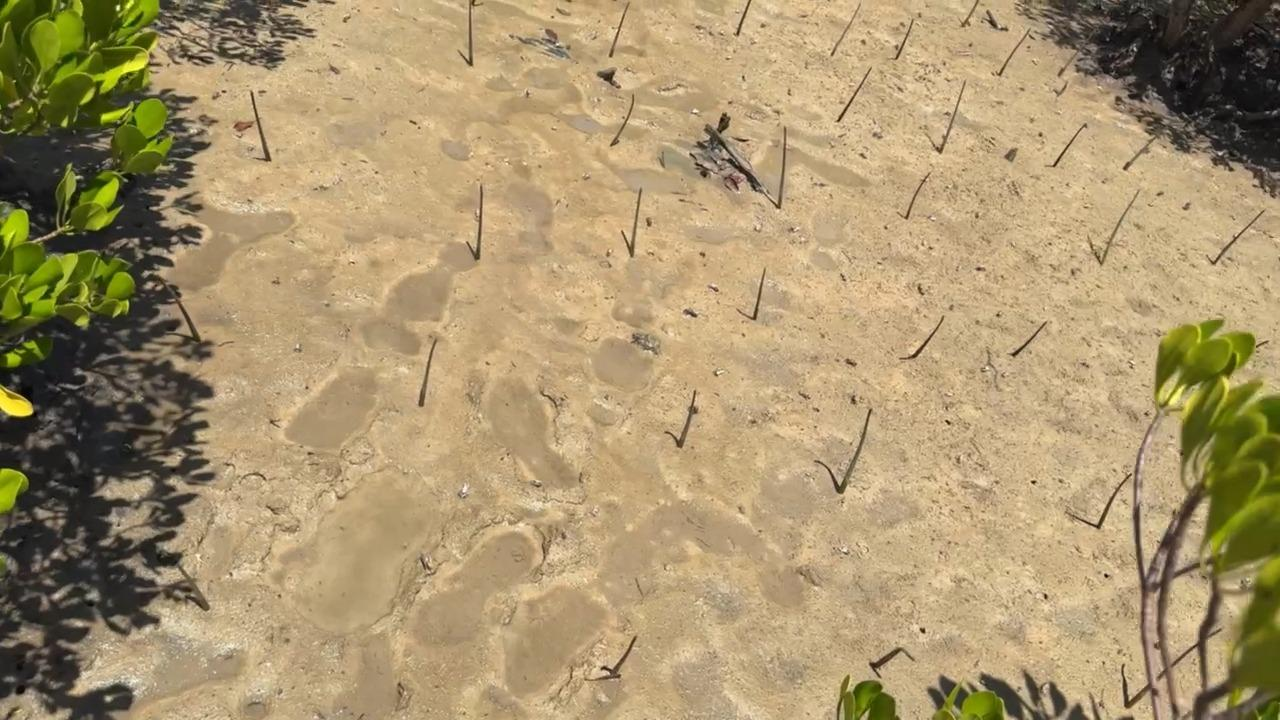Tree: (1125, 626, 1222, 710), (1213, 208, 1266, 267), (838, 408, 873, 494), (1100, 192, 1139, 266), (160, 280, 200, 342), (837, 66, 874, 123), (1096, 472, 1132, 528), (940, 82, 966, 153), (1060, 30, 1095, 78), (829, 4, 860, 56), (176, 566, 211, 611), (250, 90, 271, 162), (997, 30, 1029, 76), (1053, 124, 1085, 167), (1122, 135, 1158, 171), (607, 1, 630, 57), (676, 390, 698, 448), (419, 340, 438, 407), (610, 94, 634, 146), (905, 171, 930, 219), (1012, 322, 1047, 356), (913, 317, 942, 357), (609, 635, 636, 675), (870, 647, 916, 670), (777, 126, 787, 210), (631, 190, 642, 257), (895, 20, 914, 58), (753, 269, 767, 320), (475, 183, 484, 261), (736, 0, 751, 36), (961, 0, 979, 26), (468, 0, 474, 65)
